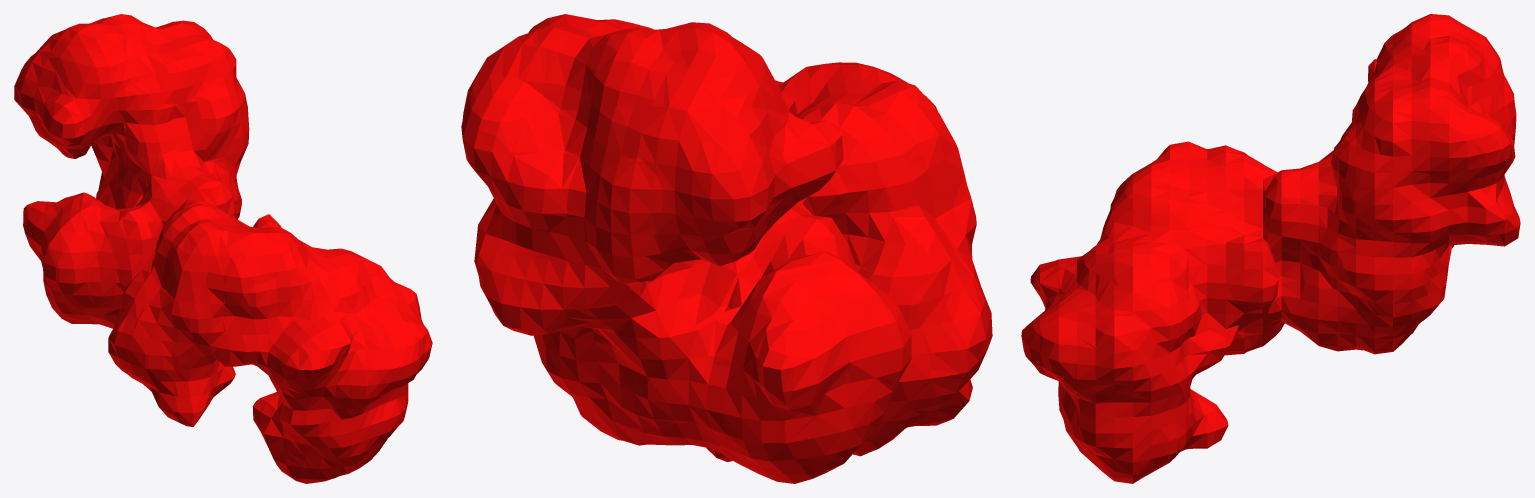
File: fre_coarse.dae
3 renders of one model, left to right at view 1: azimuth 30°, elevation 25°; view 2: azimuth 150°, elevation 25°; view 3: azimuth 270°, elevation 25°, orthographic. The views are drawn at different scales.
Visible parts, largest first — view 1: fre; view 2: fre; view 3: fre.
Boxes of the visible parts, <box> form: fre: <box>14,14,432,483</box>; fre: <box>461,14,992,483</box>; fre: <box>1021,14,1520,483</box>.
Bounding box in the file's own units: 74.22 × 98.96 × 111.
